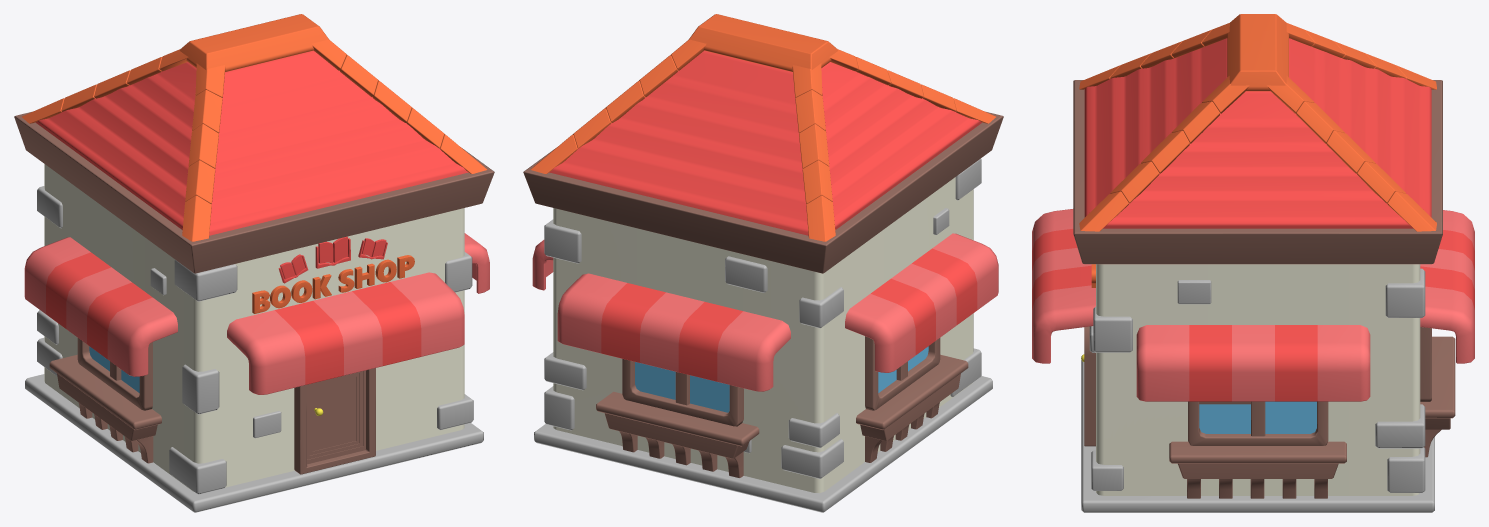
Rendered from Store_7_Book_Shop_1.glb.
3 renders of one model, left to right at view 1: azimuth 30°, elevation 25°; view 2: azimuth 150°, elevation 25°; view 3: azimuth 270°, elevation 25°, orthographic. The views are drawn at different scales.
Parts seen in each view (by area): view 1: Store_7_Book_Shop_1; view 2: Store_7_Book_Shop_1; view 3: Store_7_Book_Shop_1.
Part boxes in pixels (x1,y1,x2,y2): Store_7_Book_Shop_1: (14, 14, 494, 512); Store_7_Book_Shop_1: (523, 14, 1003, 512); Store_7_Book_Shop_1: (1032, 14, 1474, 512).
Bounding box in the file's own units: 7.09 × 7.18 × 7.24.
Materials: 1 (1 with a texture image).
